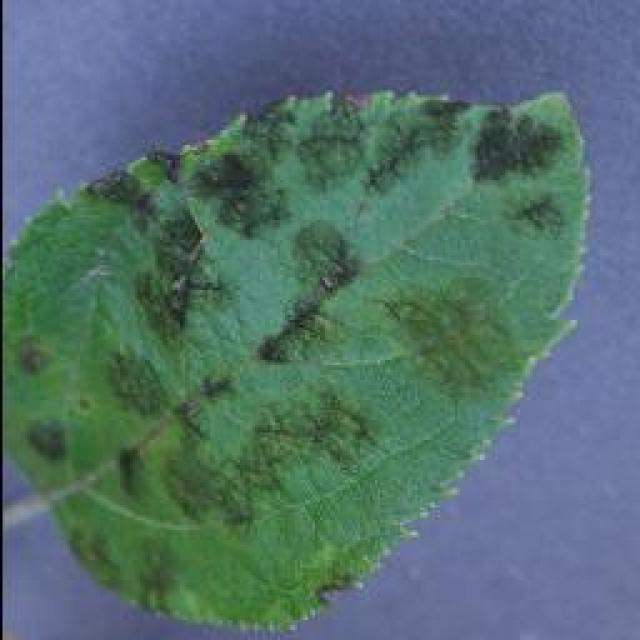apple scab disease: (0, 82, 592, 635)
